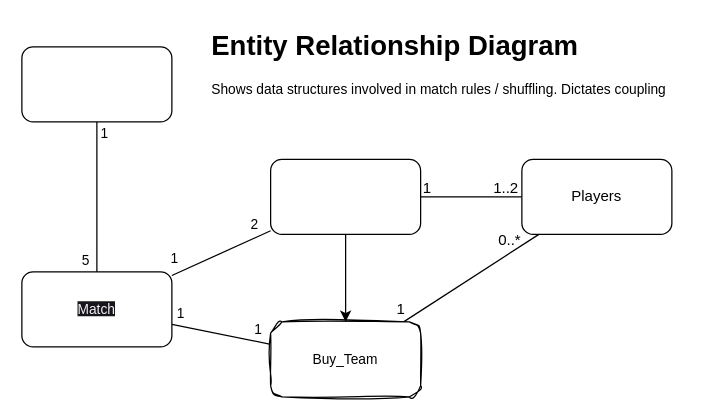
Image size: 706x419. Some labels were removed from this diagram. Each missing label, with the box of its shape:
Game: (21, 46, 172, 122)
Team: (269, 158, 421, 234)
